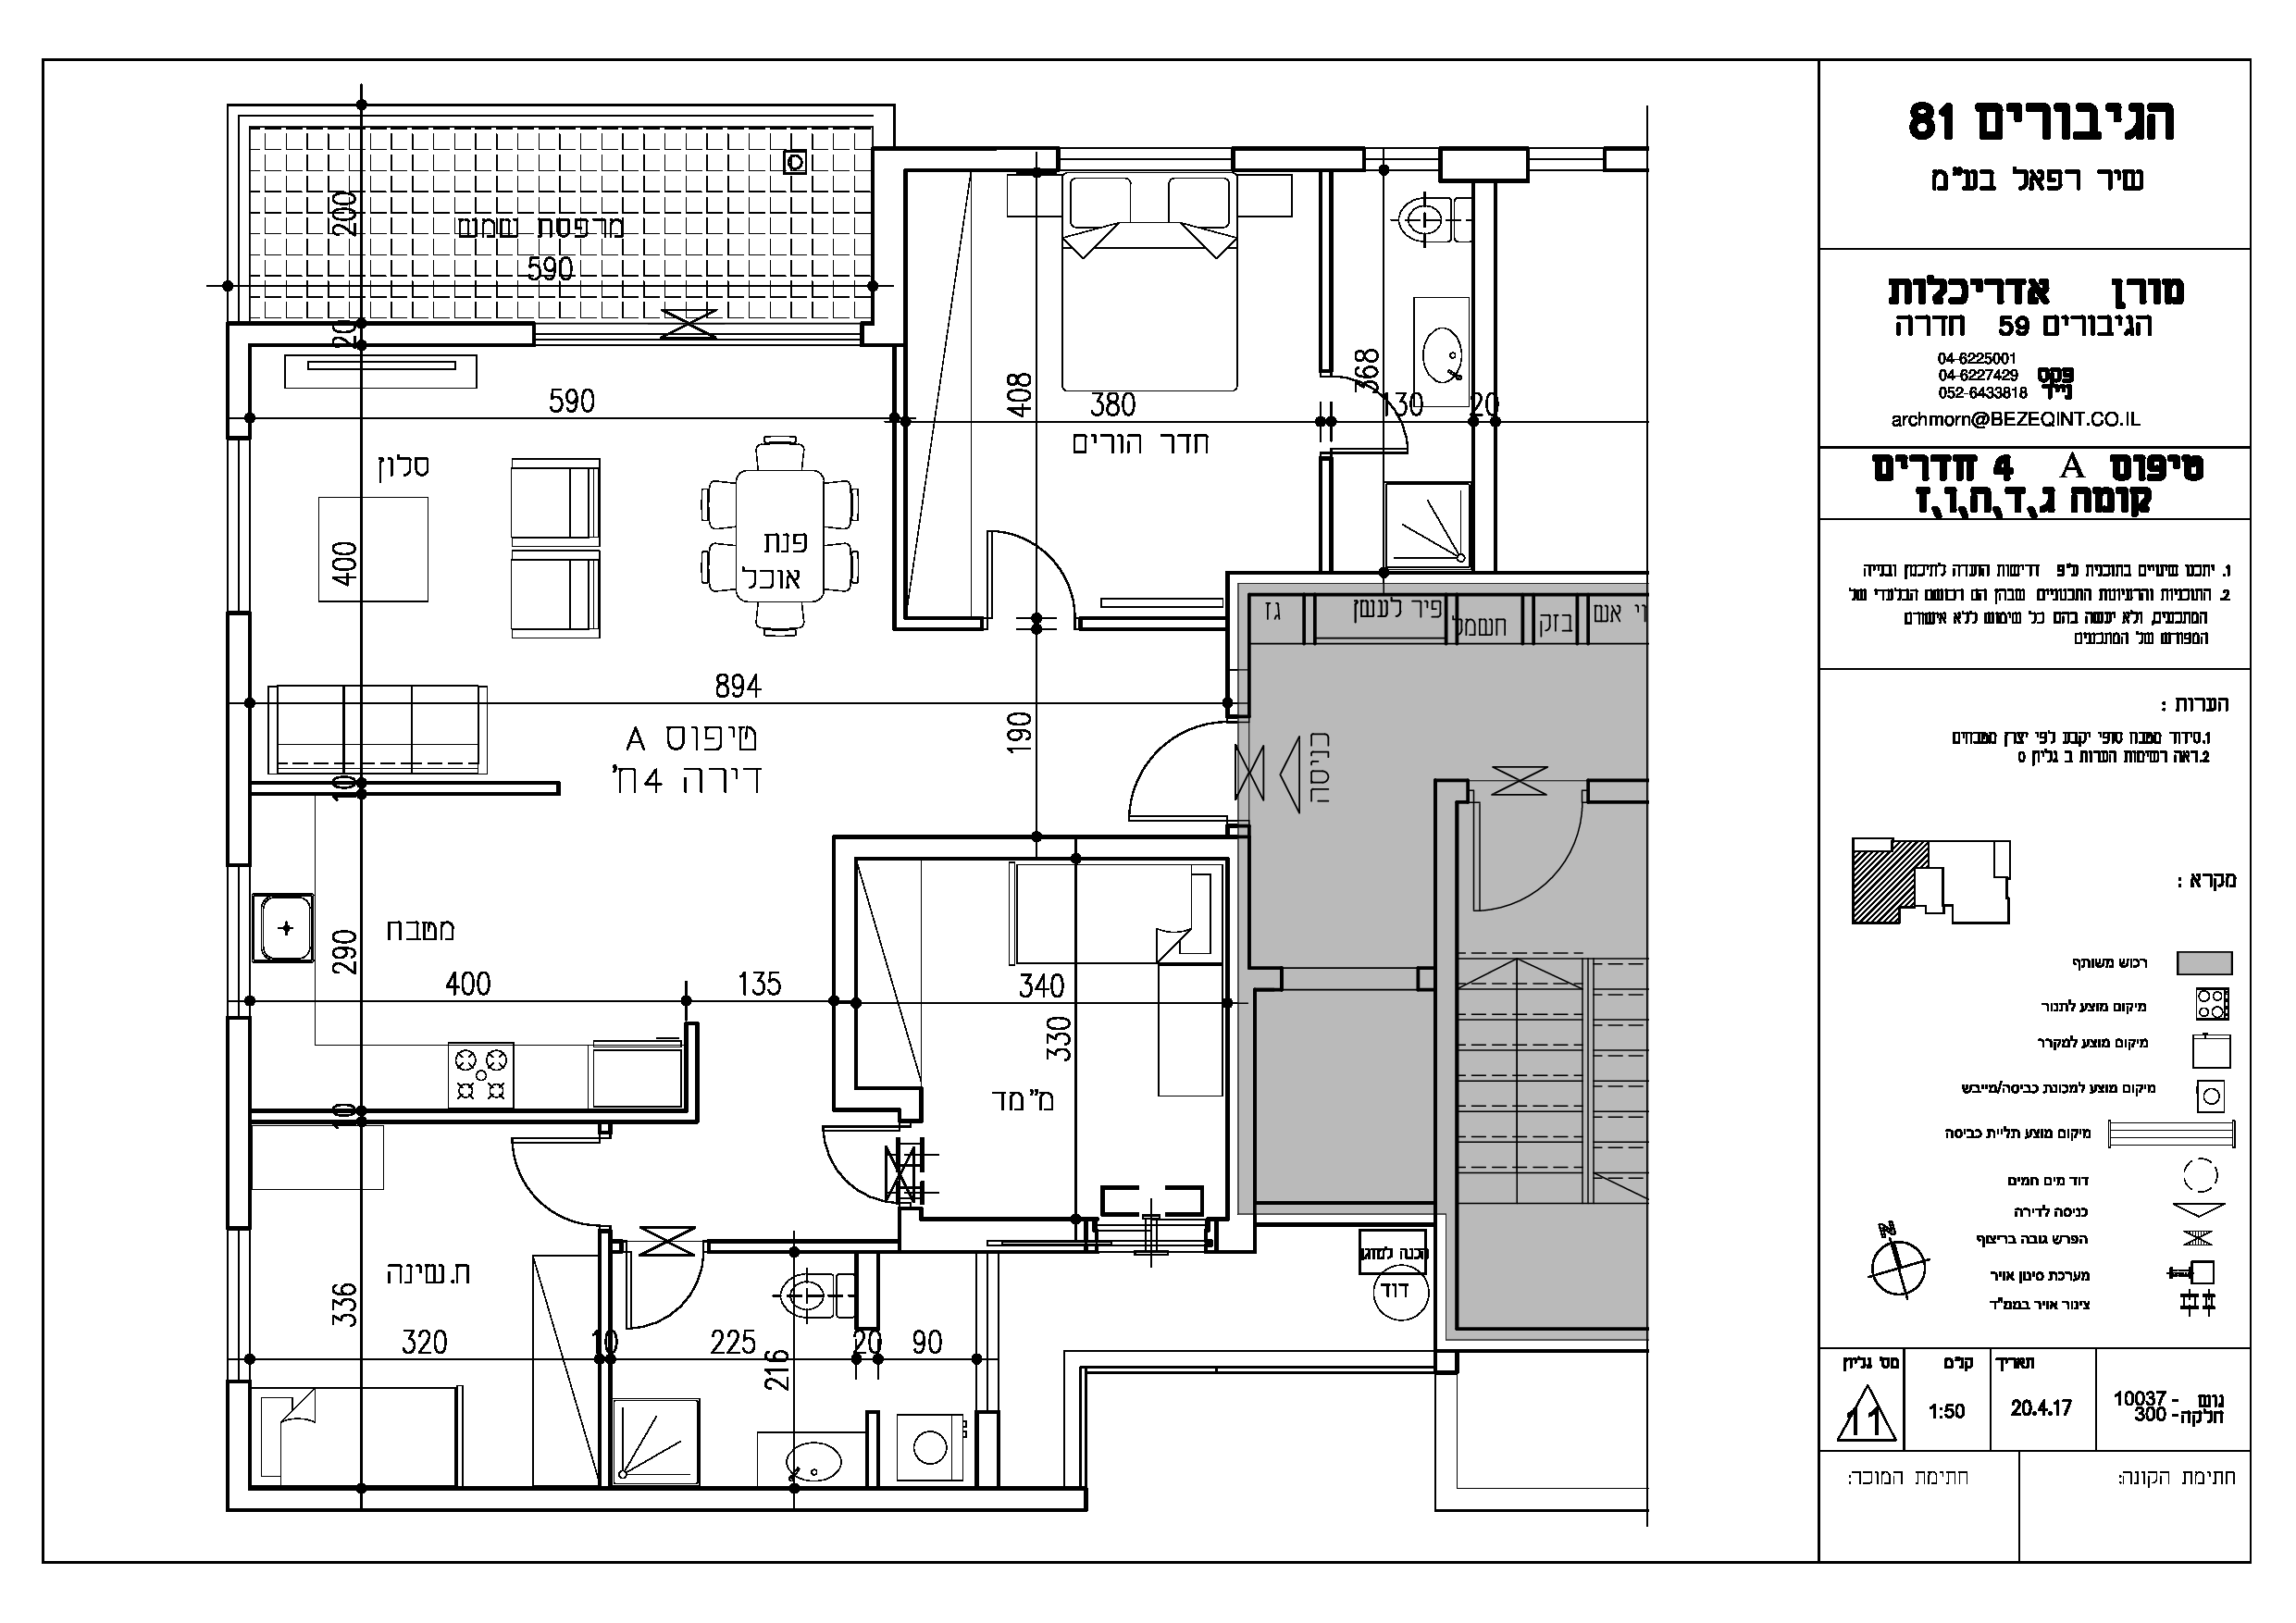door: (1103, 710, 1216, 829), (973, 518, 1089, 602), (499, 1129, 585, 1230), (799, 1117, 887, 1205), (618, 1265, 715, 1335)
